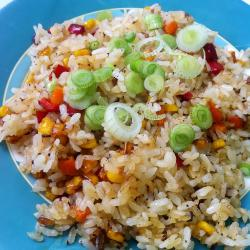rice: (14, 27, 245, 246)
